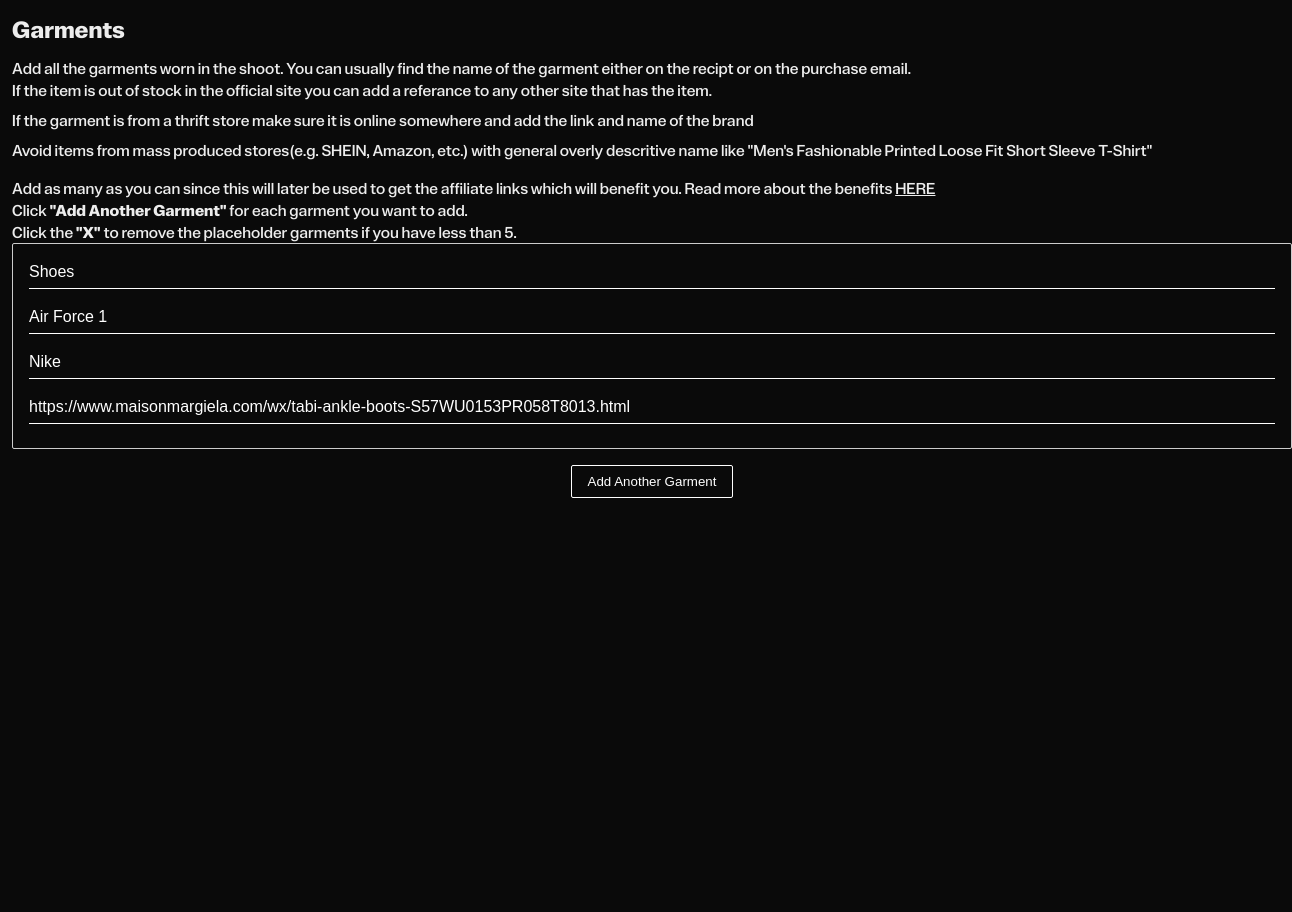
Test: GarmentsForm › adds a new garment when Add Another Garment button is clicked
Expected: the number of fields with placeholder "Garment Type (e.g. Boots)" is 1, left=29, top=261, right=1275, bottom=288
Click the button "Add Another Garment". click: (652, 482)
box: left=570, top=465, right=733, bottom=498
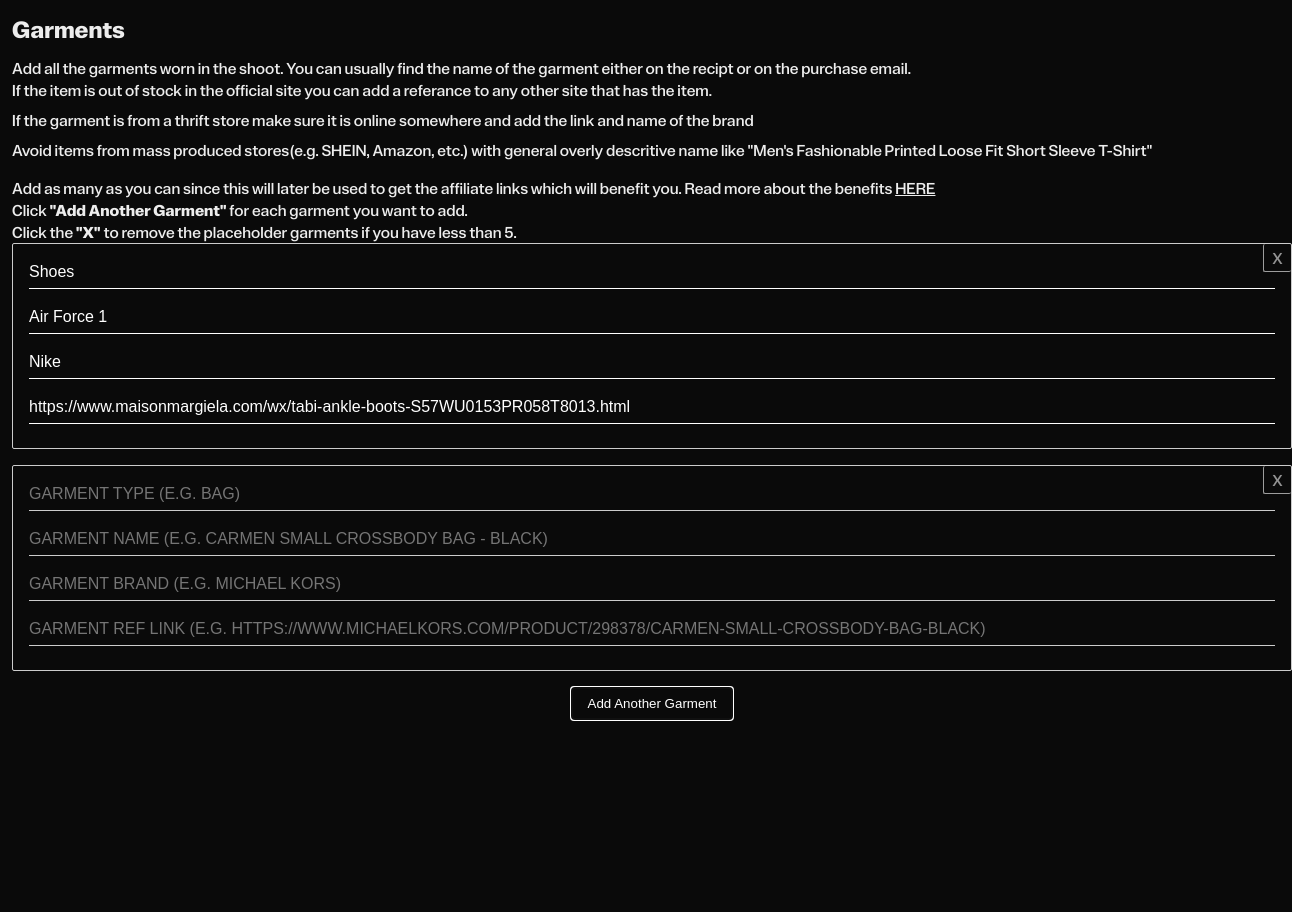
Now the number of fields with placeholder "Garment Type (e.g. Boots)" is 2, box left=29, top=261, right=1275, bottom=288; left=29, top=483, right=1275, bottom=510
